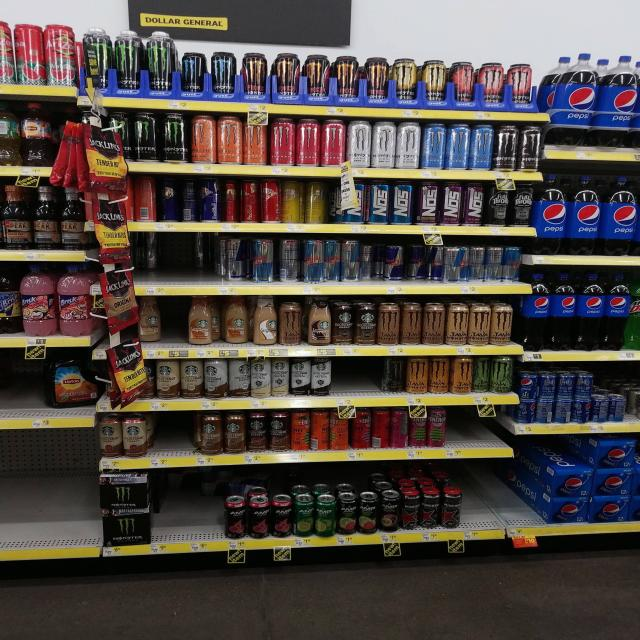void: (0, 429, 37, 564), (42, 432, 76, 567), (187, 473, 222, 559), (4, 364, 42, 430), (85, 433, 103, 570), (490, 468, 518, 552), (459, 409, 505, 460), (522, 466, 550, 549), (156, 475, 180, 561), (152, 416, 198, 450), (336, 362, 368, 410), (463, 471, 481, 545)
